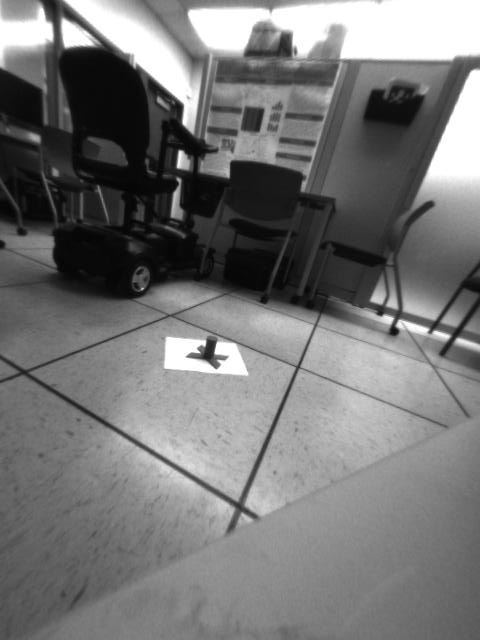X: (187, 335, 228, 370)
